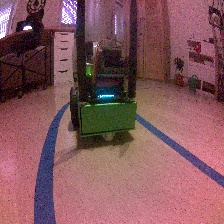rob: (68, 48, 137, 141)
